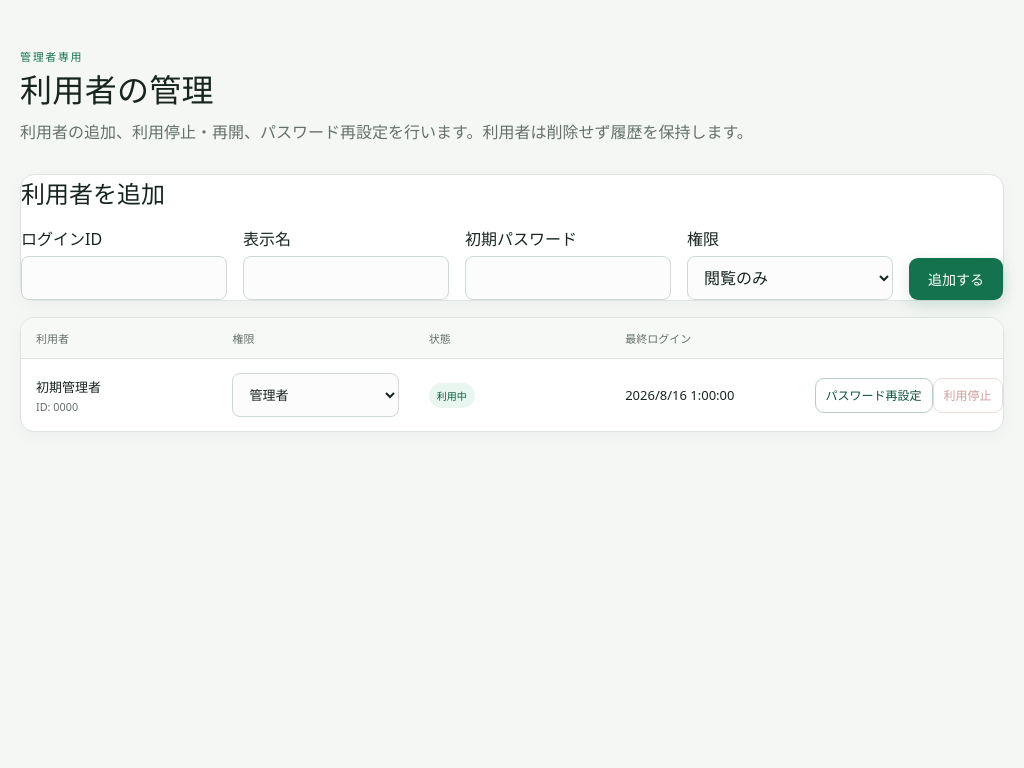
UsersPage password policy › sends the confirmed password exactly and reports success
Expected: the text "ID: 0000" is shown, [36,399,78,414]
Click the button "パスワード再設定". click: [874, 395]
box: [815,378,933,413]
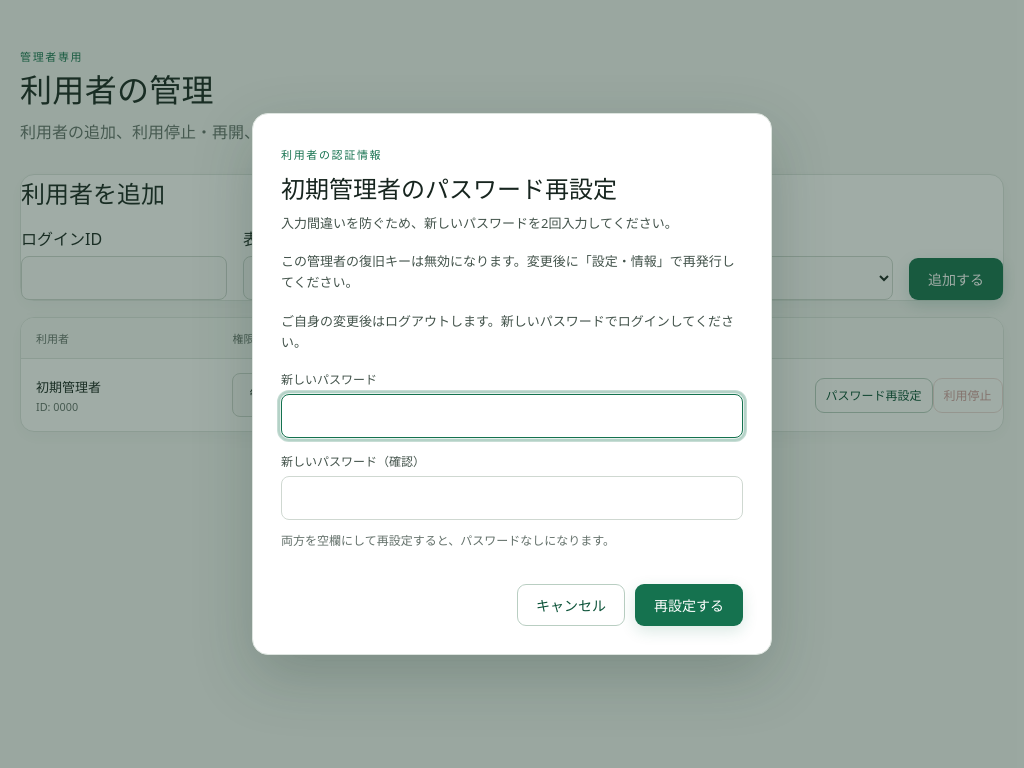
Type "Surface-test-password" into the password field labelled "新しいパスワード". click: [512, 416]
box: [281,394,743,438]
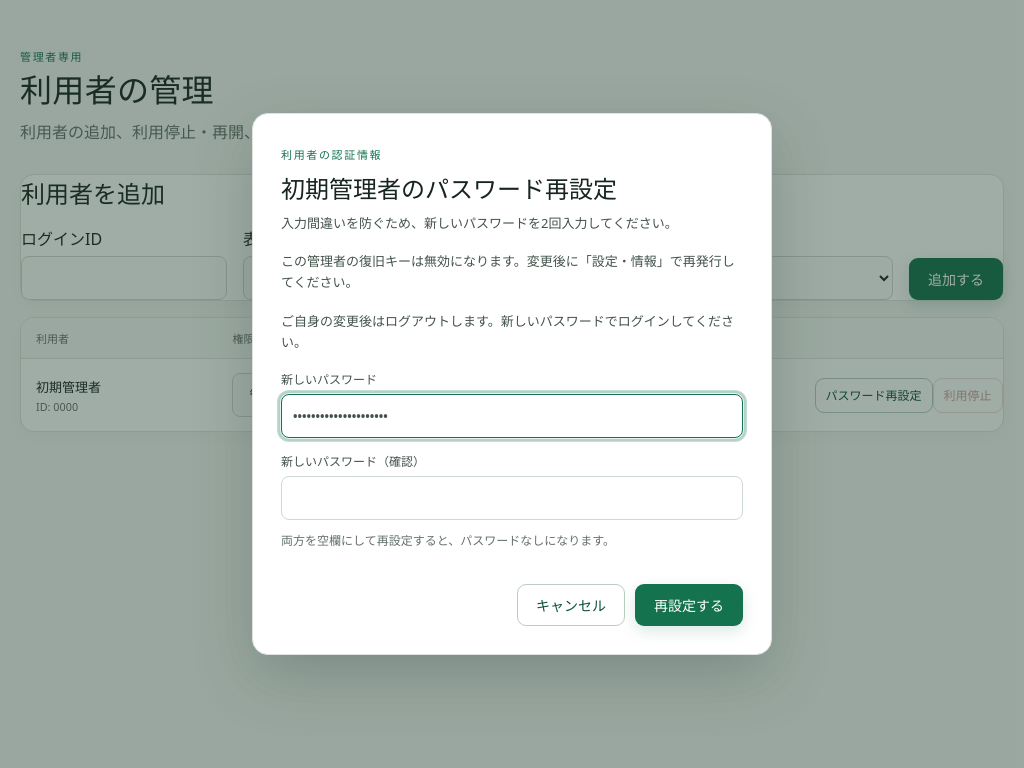
Type "Surface-test-password" into the password field labelled "新しいパスワード（確認）". click: [512, 498]
box: [281,476,743,520]
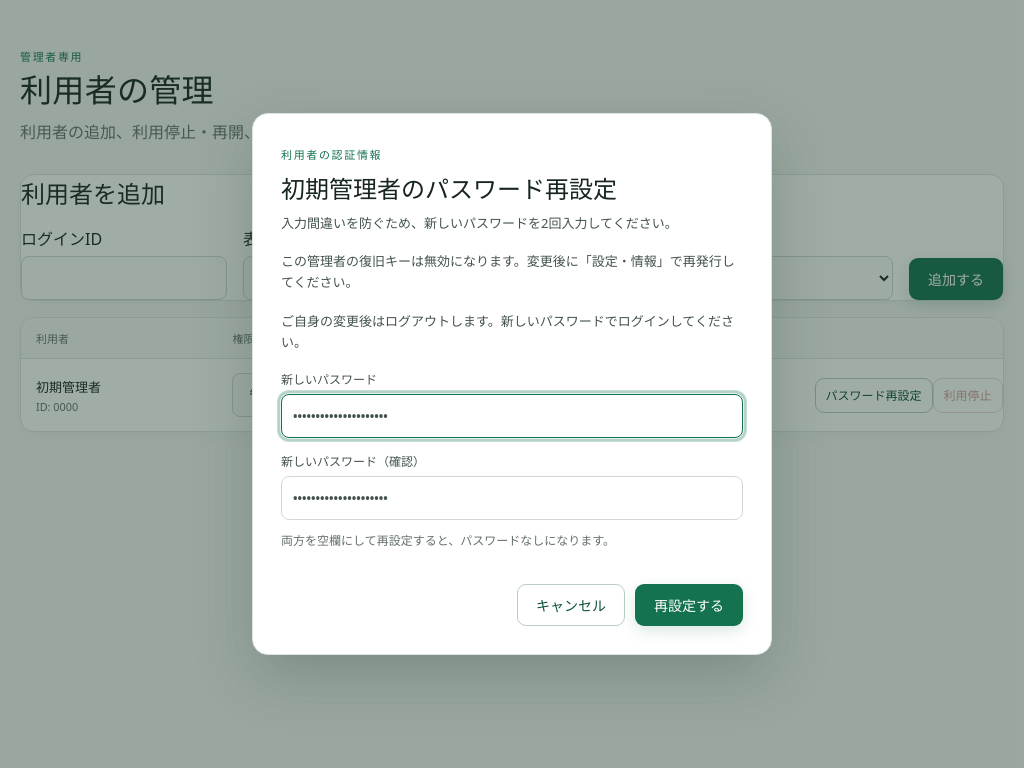
Click the button "再設定する". click: [689, 606]
box: [635,584,743,626]
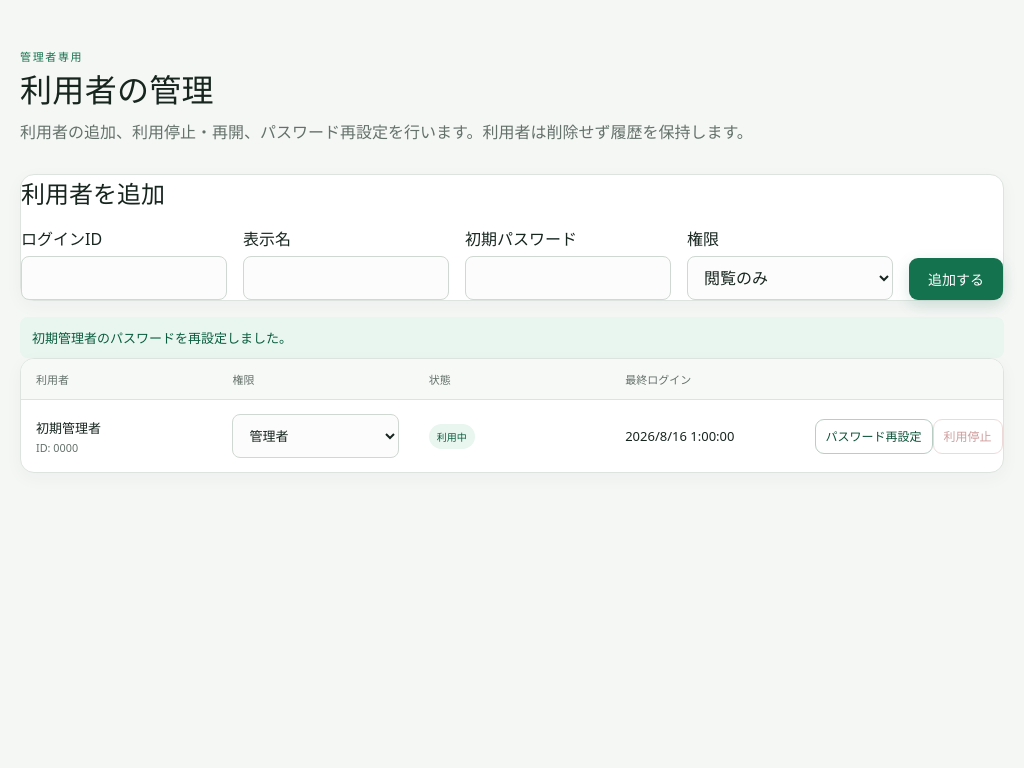
Now the text "初期管理者のパスワードを再設定しました。" is shown, box [20,317,1004,358]
Now the dialog is gone
